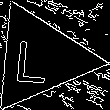L_N: (21, 31, 60, 85)
